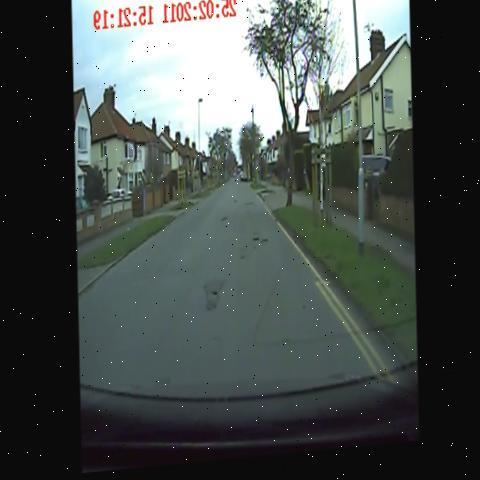pothole: (199, 280, 223, 330), (243, 231, 274, 265), (215, 210, 233, 232), (230, 194, 241, 217), (243, 202, 254, 218)
